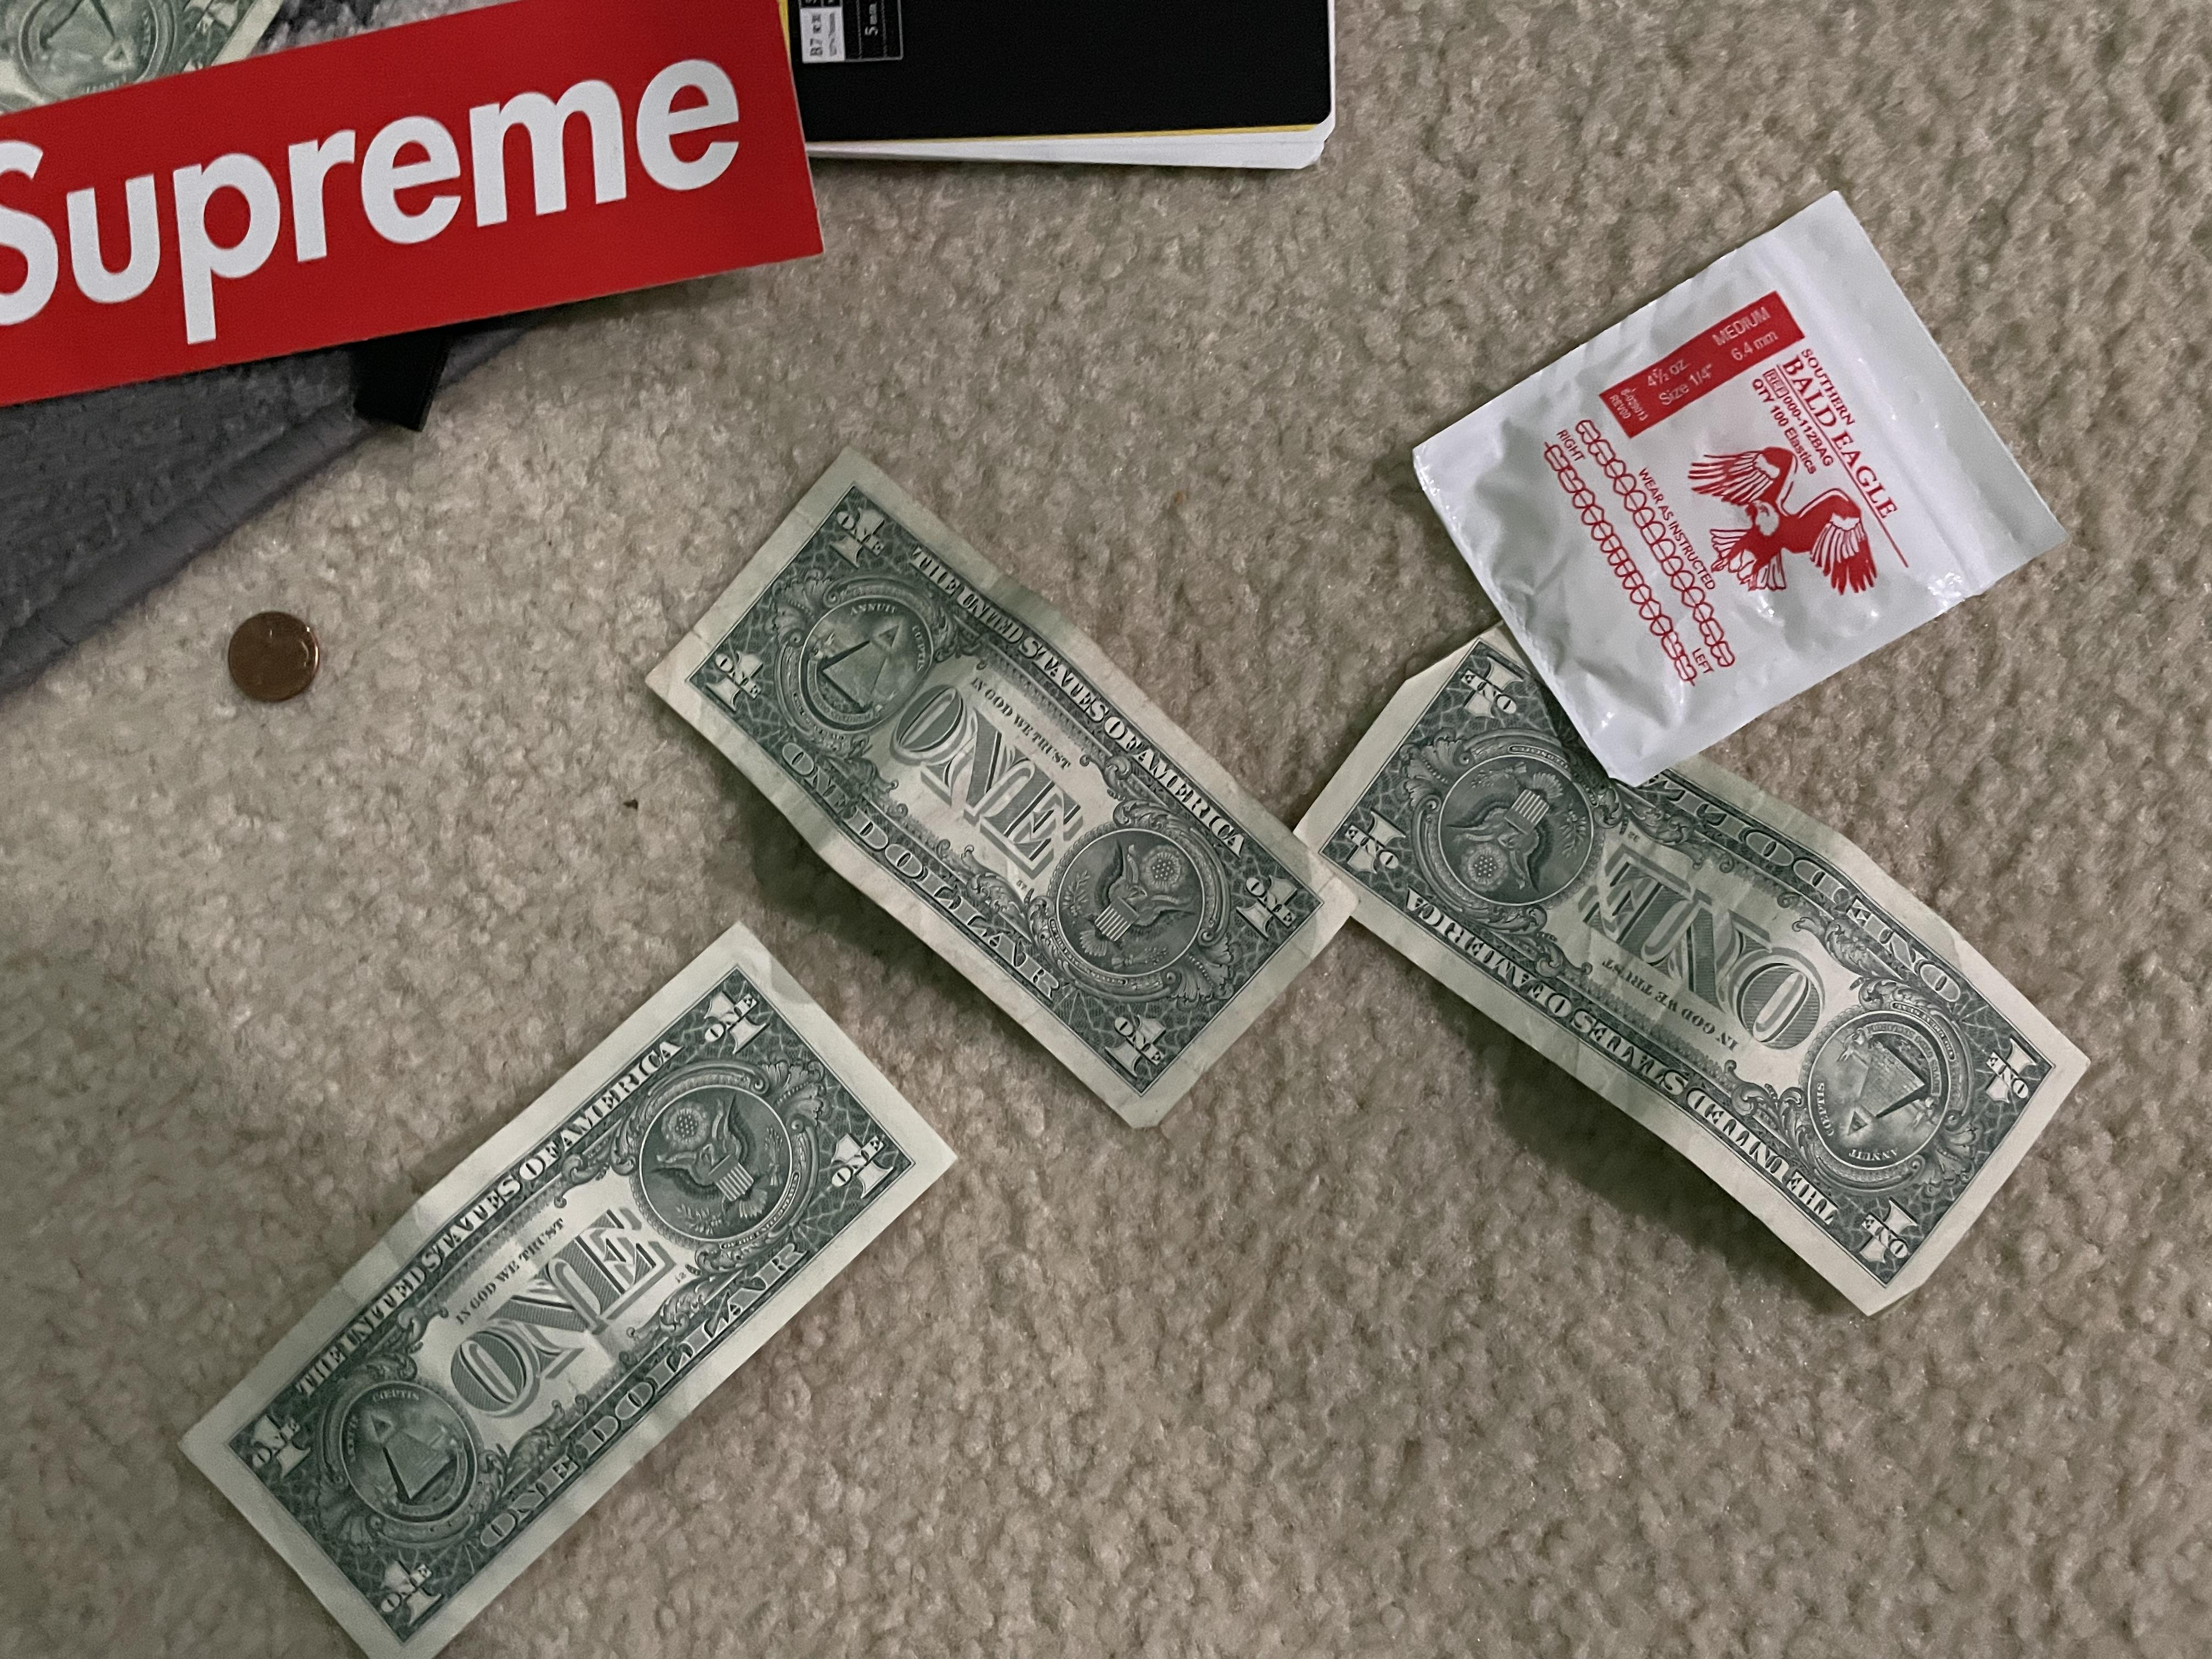OneBill: (1291, 599, 2097, 1316), (174, 908, 956, 1645), (637, 427, 1359, 1140)
Penny: (212, 603, 333, 718)
